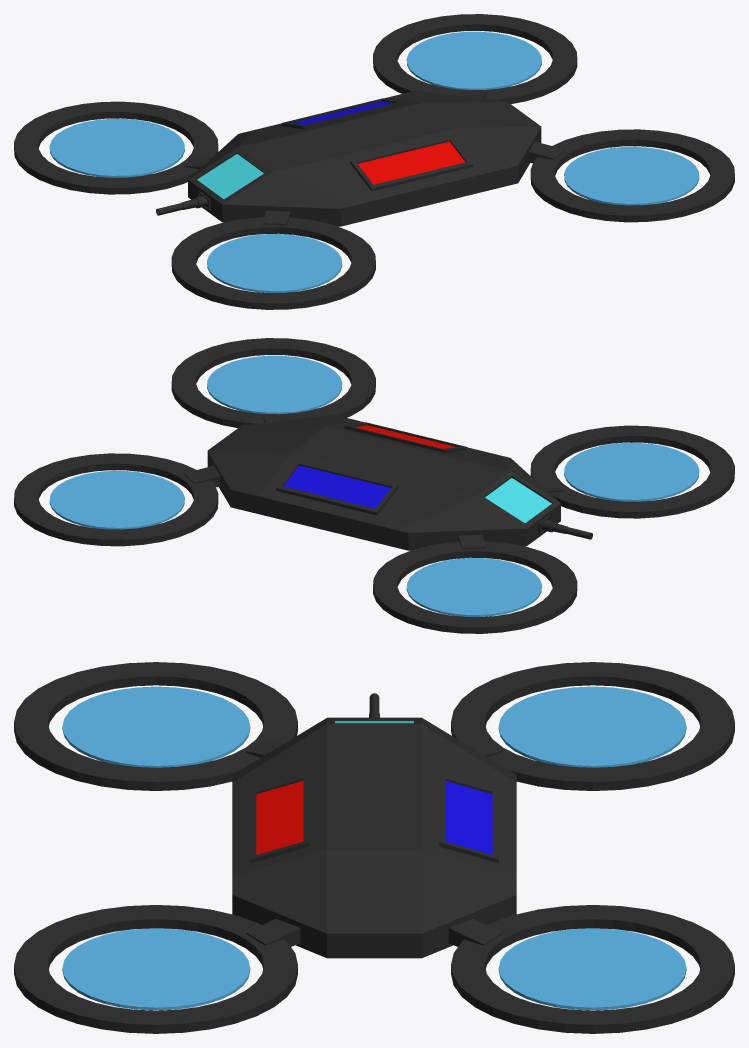
File: CopDrone.fbx
3 renders of one model, top to bottom at view 1: azimuth 30°, elevation 25°; view 2: azimuth 150°, elevation 25°; view 3: azimuth 270°, elevation 25°, orthographic. The views are drawn at different scales.
Visible parts, largest first — view 1: Cube, Cylinder, Cylinder.001, Cube.001; view 2: Cube, Cylinder, Cylinder.001, Cube.001; view 3: Cylinder, Cube, Cylinder.001, Cube.001.
Part boxes in pixels (box(x1,y1,x2,y2)): Cube: box(188, 90, 541, 226); Cylinder: box(14, 14, 734, 309); Cylinder.001: box(49, 31, 699, 292); Cube.001: box(184, 91, 564, 224); Cube: box(207, 414, 560, 550); Cylinder: box(14, 338, 734, 633); Cylinder.001: box(49, 355, 699, 616); Cube.001: box(184, 415, 564, 548); Cylinder: box(14, 662, 734, 1033); Cube: box(232, 717, 516, 958); Cylinder.001: box(62, 686, 686, 1010); Cube.001: box(246, 739, 502, 946).
Bounding box in the file's own units: 605 × 67.11 × 508.
